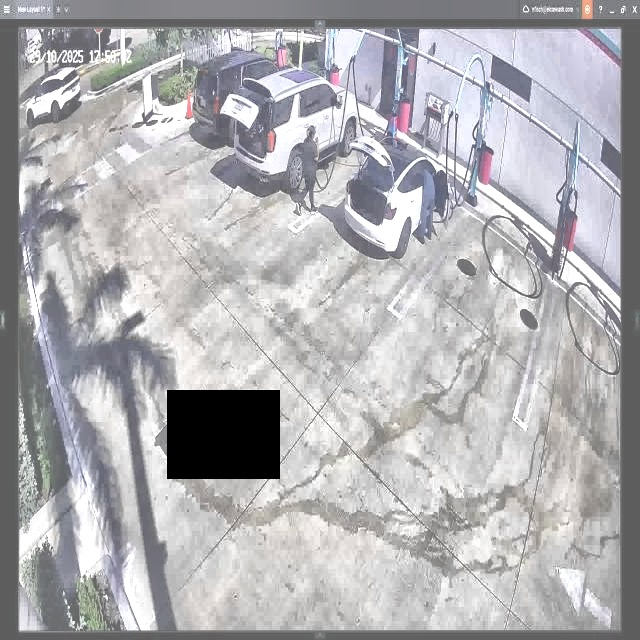Car: (230, 74, 357, 184), (344, 131, 449, 250), (193, 55, 295, 155)
